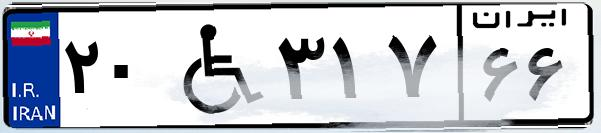0: (110, 28, 158, 98)
1: (330, 28, 385, 110)
2: (57, 26, 110, 100)
3: (270, 28, 330, 110)
6: (475, 38, 525, 113), (525, 38, 570, 115)
7: (385, 28, 445, 110)
ژ (معلولین و جانبازان): (158, 12, 270, 120)
